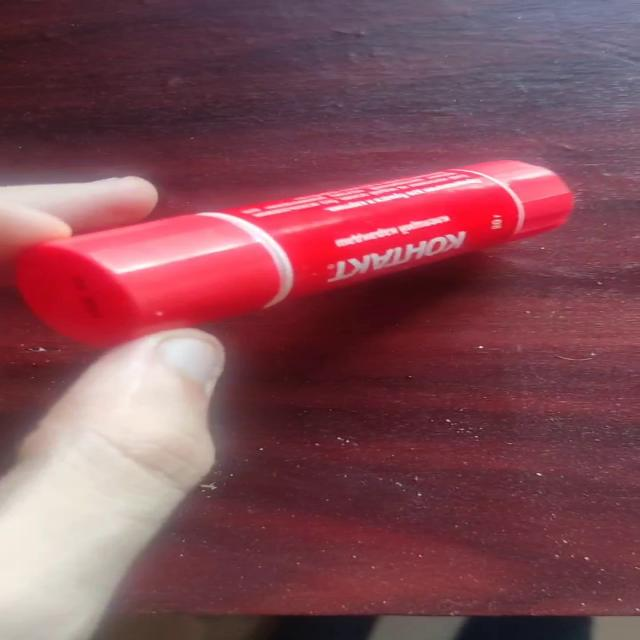glue: (13, 157, 576, 349)
